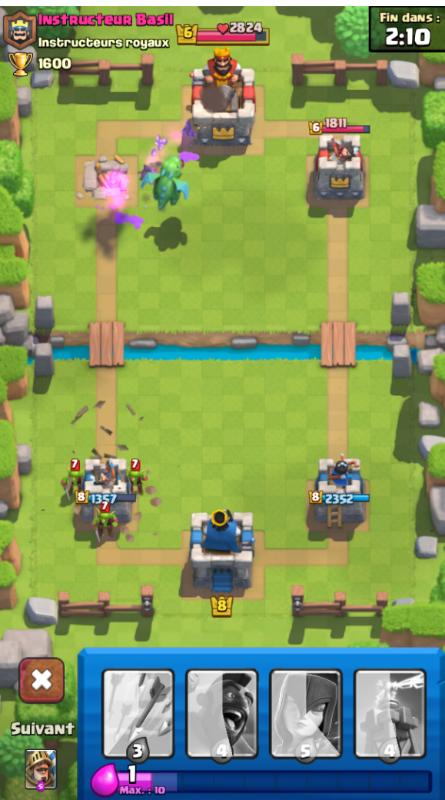bat: (137, 163, 153, 187)
gobelin: (93, 508, 122, 540), (61, 469, 85, 499), (127, 466, 150, 495)
